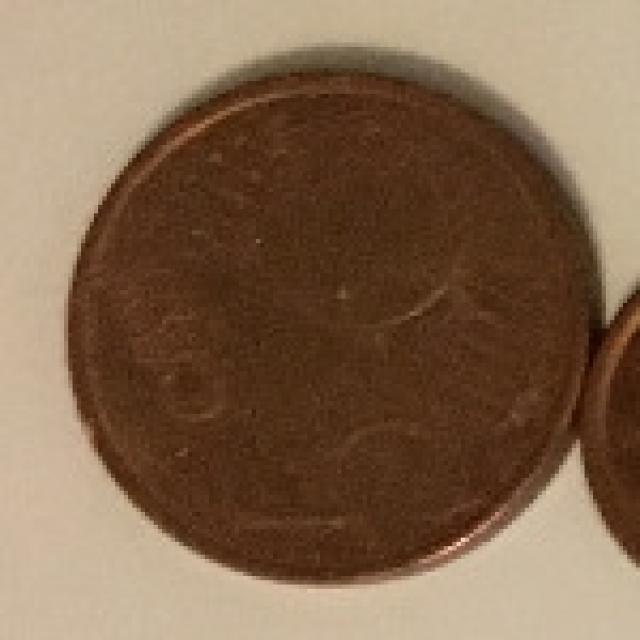5c: (65, 63, 606, 609)
